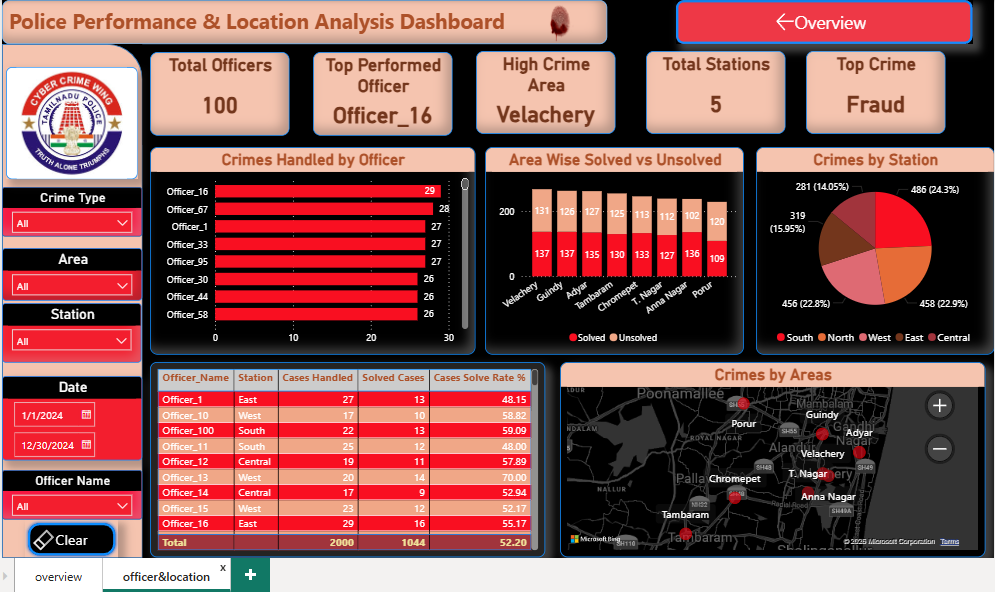

This screenshot's page, from the dashboard's own definition file:
{"tool":"powerbi","page":{"name":"officer&location","canvas":[1280,720],"ordinal":1},"visuals":[{"type":"textbox","box":[0,0,780.9,56.7],"z":0},{"type":"shape","box":[0,56.7,181.4,663.3],"z":1},{"type":"card","title":"Total Officers","fields":{"Values":["chennai_crime_fact.Total Officers"]},"box":[191.3,66.6,180,107.7],"z":2},{"type":"card","title":"Top Performed Officer","fields":{"Values":["chennai_crime_fact.Top Officer"]},"box":[401.1,66.6,180,107.7],"z":3},{"type":"card","title":"High Crime Area","fields":{"Values":["chennai_crime_fact.Highest Crime Area"]},"box":[611.4,65.7,180,107.1],"z":4},{"type":"card","title":"Total Stations","fields":{"Values":["chennai_crime_fact.Total Stations"]},"box":[831.4,65.7,180,107.1],"z":5},{"type":"clusteredBarChart","title":" Crimes Handled by Officer","fields":{"Category":["chennai_police_dim.Officer_Name"],"Y":["chennai_crime_fact.Total Crimes"]},"box":[191.3,189.9,419.5,267.9],"z":6},{"type":"pieChart","title":" Crimes by Station","fields":{"Y":["chennai_crime_fact.Total Crimes"],"Category":["chennai_police_dim.Station"]},"box":[972.3,189.9,307.6,267.9],"z":8},{"type":"map","title":" Crimes by Areas","fields":{"Category":["chennai_location_dim.Area"],"Size":["chennai_crime_fact.Total Crimes"]},"box":[720,467.7,548.5,252.3],"z":9},{"type":"columnChart","title":" Area Wise Solved vs Unsolved","fields":{"Y":["chennai_crime_fact.Total Crimes"],"Category":["chennai_location_dim.Area"],"Series":["chennai_crime_fact.Status"]},"box":[623.6,189.9,334.5,267.9],"z":10},{"type":"slicer","title":"Date","fields":{"Values":["chennai_crime_fact.Date"]},"box":[0,484.7,181.4,109.1],"z":11},{"type":"slicer","title":"Crime  Type","fields":{"Values":["chennai_crime_fact.Crime_Type"]},"box":[0,240.9,181.4,63.8],"z":12},{"type":"slicer","title":"Area","fields":{"Values":["chennai_location_dim.Area"]},"box":[0,320.3,181.4,68],"z":13},{"type":"slicer","title":"Station","fields":{"Values":["chennai_police_dim.Station"]},"box":[0,391.2,180,76.5],"z":14},{"type":"actionButton","box":[29.8,670.4,120.5,49.6],"z":15},{"type":"image","box":[674.6,0,90.7,56.7],"z":16},{"type":"image","box":[5.7,86.5,170.1,144.6],"z":17},{"type":"card","title":"Top Crime","fields":{"Values":["chennai_crime_fact.Top Crime"]},"box":[1037.1,65.7,180,107.1],"z":18},{"type":"actionButton","box":[870.2,0,382.7,56.7],"z":19},{"type":"tableEx","fields":{"Values":["chennai_police_dim.Officer_Name","chennai_police_dim.Station","chennai_crime_fact.Cases Handled","chennai_crime_fact.Solved Cases","chennai_crime_fact.Cases Solve Rate %"]},"box":[191.3,467.7,510.2,252.3],"z":20},{"type":"slicer","title":"Officer Name","fields":{"Values":["chennai_police_dim.Officer_Name"]},"box":[0,606.6,181.4,63.8],"z":21}]}

Visuals, with their boxes on the page's 1280x720 design canvas (x1, y1, x2, y2). These are canvas units, not pixel positions in the 995x592 screenshot, which may show the page scaled, cropped or inside an application window:
textbox: select_region(0, 0, 781, 57)
shape: select_region(0, 57, 181, 720)
"Total Officers" card: select_region(191, 67, 371, 174)
"Top Performed Officer" card: select_region(401, 67, 581, 174)
"High Crime Area" card: select_region(611, 66, 791, 173)
"Total Stations" card: select_region(831, 66, 1011, 173)
" Crimes Handled by Officer" clusteredBarChart: select_region(191, 190, 611, 458)
" Crimes by Station" pieChart: select_region(972, 190, 1280, 458)
" Crimes by Areas" map: select_region(720, 468, 1268, 720)
" Area Wise Solved vs Unsolved" columnChart: select_region(624, 190, 958, 458)
"Date" slicer: select_region(0, 485, 181, 594)
"Crime  Type" slicer: select_region(0, 241, 181, 305)
"Area" slicer: select_region(0, 320, 181, 388)
"Station" slicer: select_region(0, 391, 180, 468)
actionButton: select_region(30, 670, 150, 720)
image: select_region(675, 0, 765, 57)
image: select_region(6, 86, 176, 231)
"Top Crime" card: select_region(1037, 66, 1217, 173)
actionButton: select_region(870, 0, 1253, 57)
tableEx - chennai_police_dim.Officer_Name x chennai_police_dim.Station: select_region(191, 468, 702, 720)
"Officer Name" slicer: select_region(0, 607, 181, 670)
